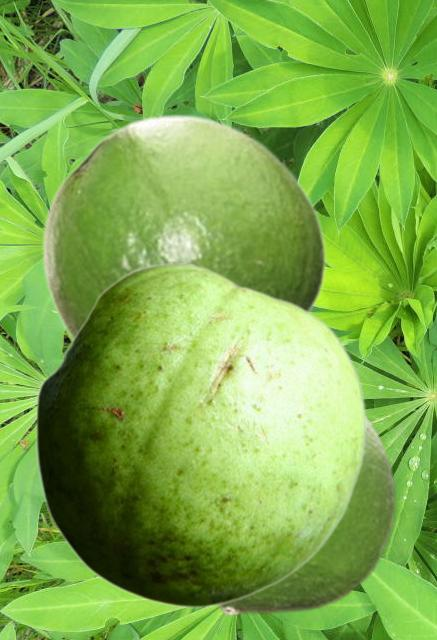guava: (35, 263, 365, 607), (40, 112, 326, 340), (212, 413, 397, 615)
